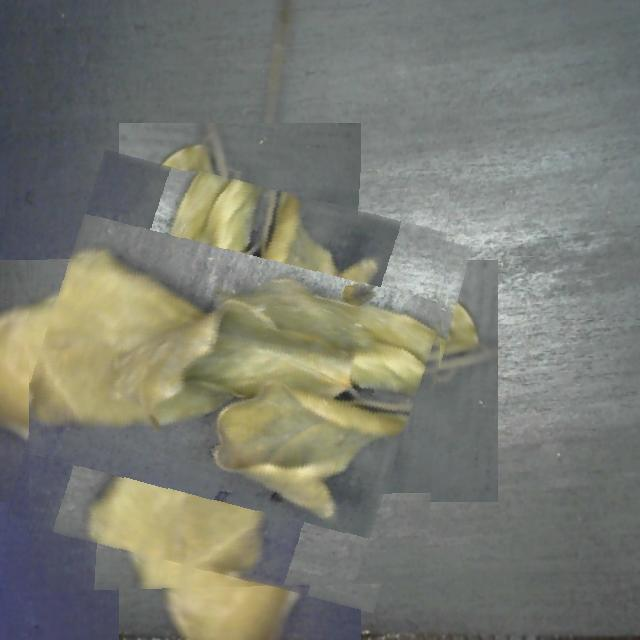biodegradable: (29, 171, 451, 592)
